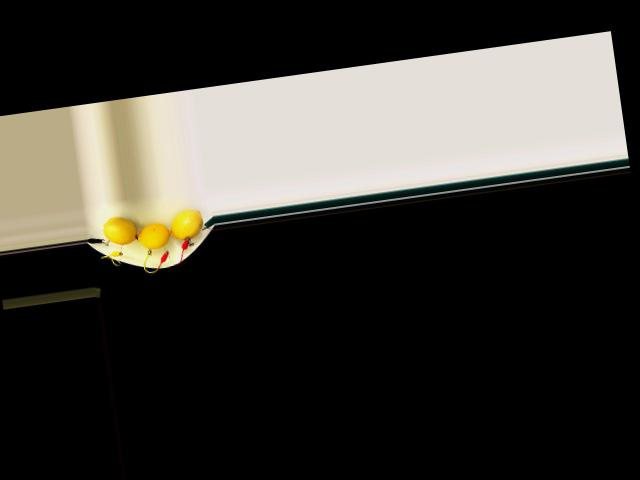lemon: (169, 211, 205, 246)
